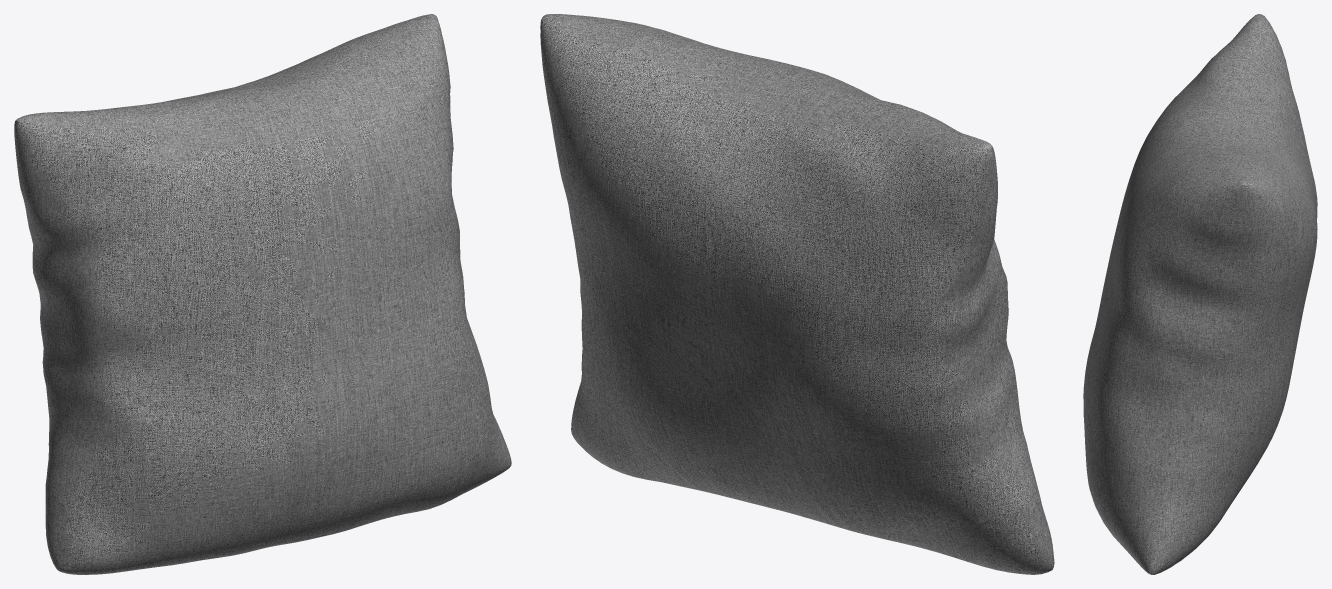
The picture shows the model from 3 angles, left to right: view 1: azimuth 30°, elevation 25°; view 2: azimuth 150°, elevation 25°; view 3: azimuth 270°, elevation 25°; orthographic projection. The views are drawn at different scales.
Visible parts, largest first — view 1: C-skpDA71; view 2: C-skpDA71; view 3: C-skpDA71.
Boxes of the visible parts, x1,y1,x2,y2 form: C-skpDA71: (14, 14, 511, 574); C-skpDA71: (540, 14, 1054, 574); C-skpDA71: (1083, 14, 1317, 574).
Bounding box in the file's own units: 0.488 × 0.457 × 0.2461.
Materials: 1 (1 with a texture image).
